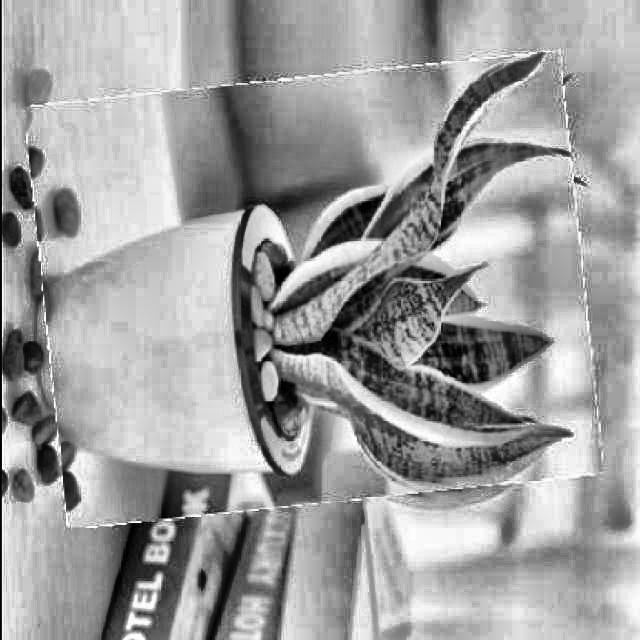plants: (32, 66, 592, 516)
